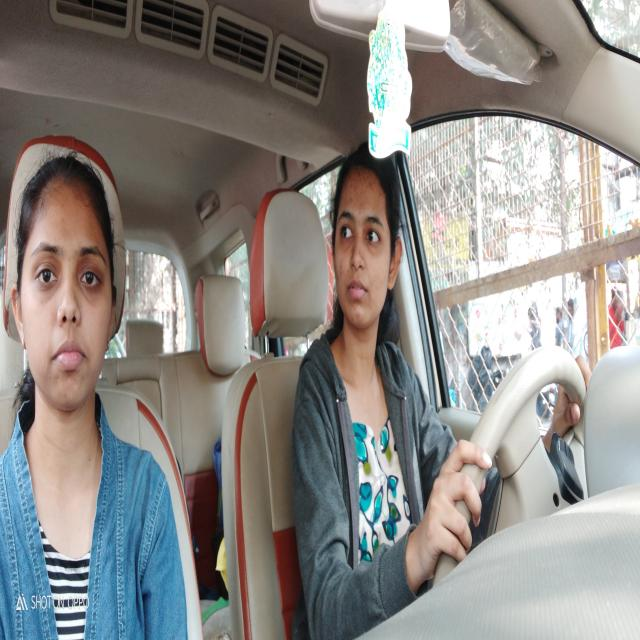LeftRight: (330, 156, 405, 353)
person: (10, 155, 121, 416)
